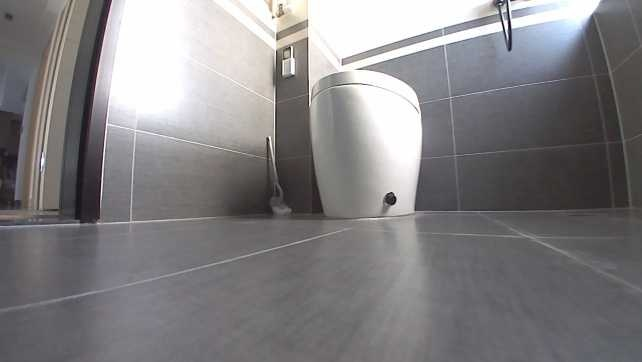toilet: (305, 68, 422, 217)
